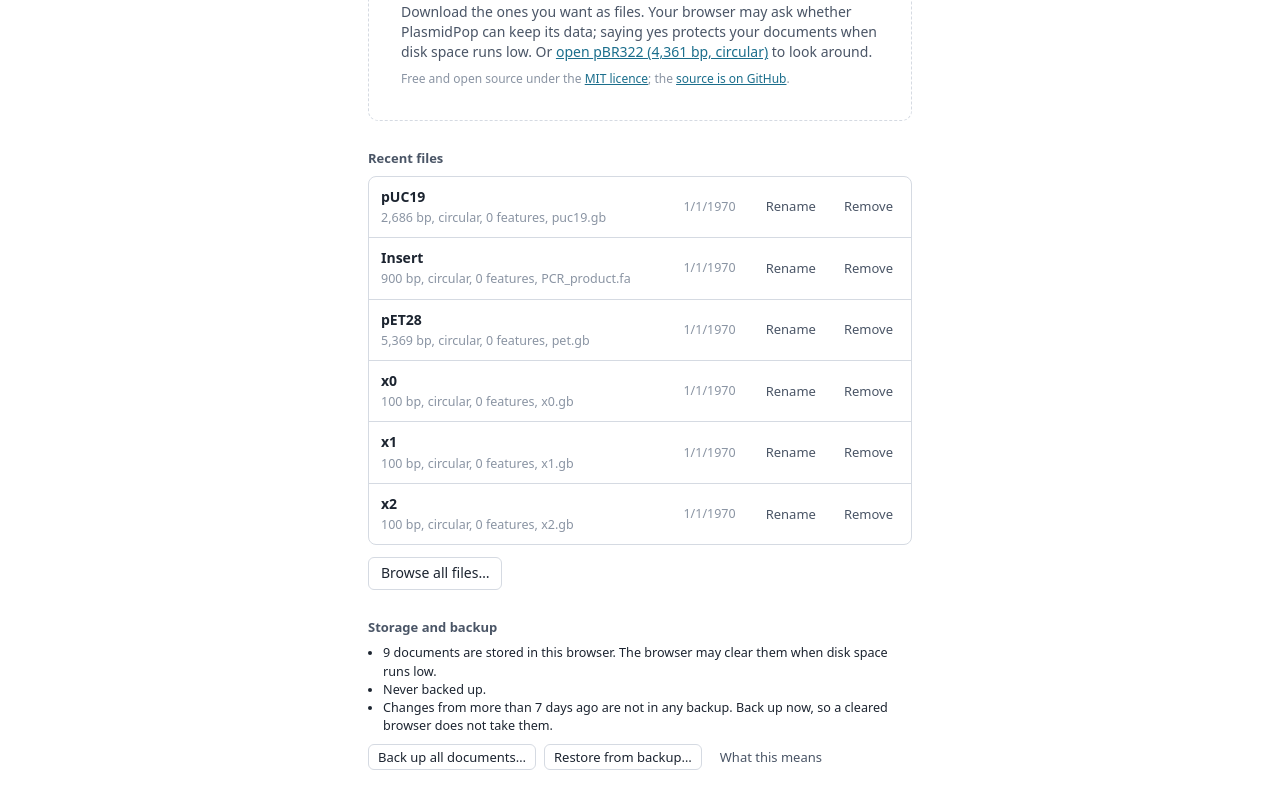
Test: the Browse all files panel (item 111) › closes with Close and with Escape
(page scrolled)
Click the button "Browse all files…". click: (435,573)
box: top-left (368, 557), bottom-right (502, 590)
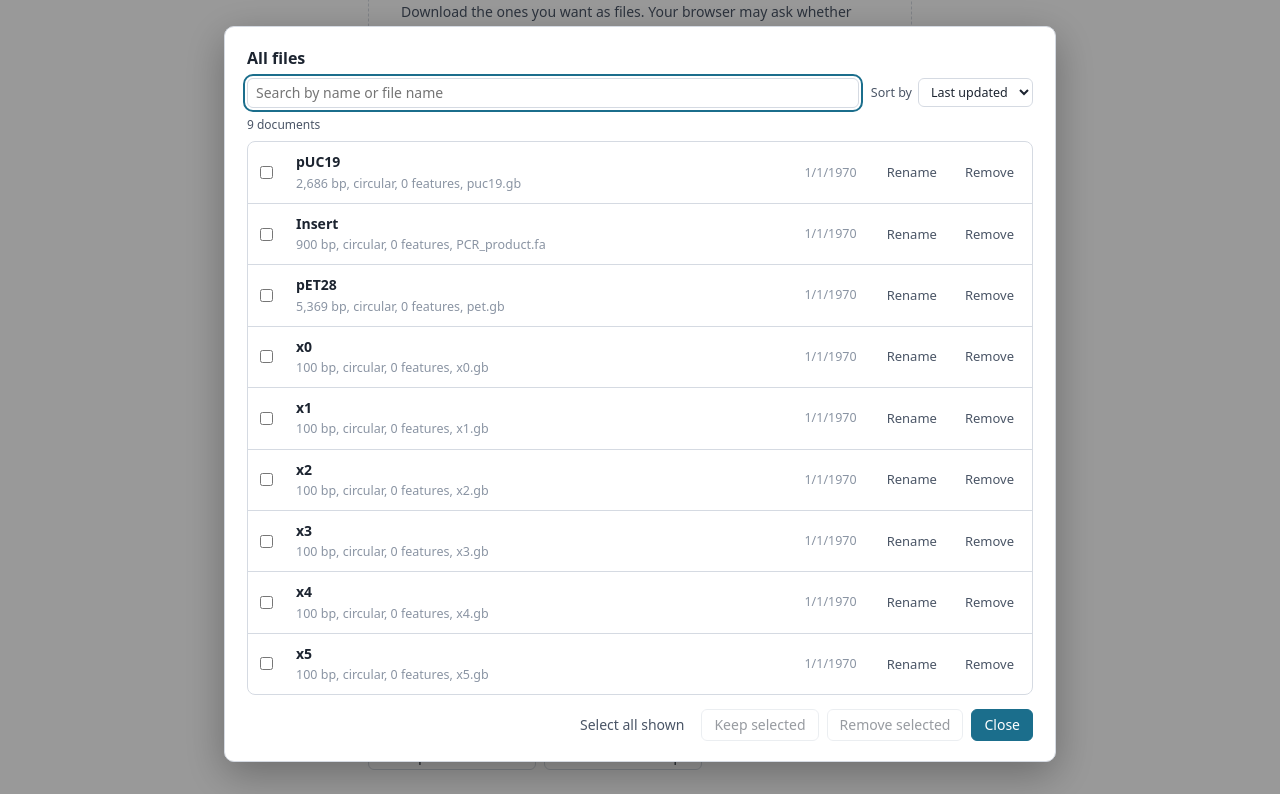
Click the button "Close". click: (1002,725)
box: top-left (972, 709), bottom-right (1033, 742)
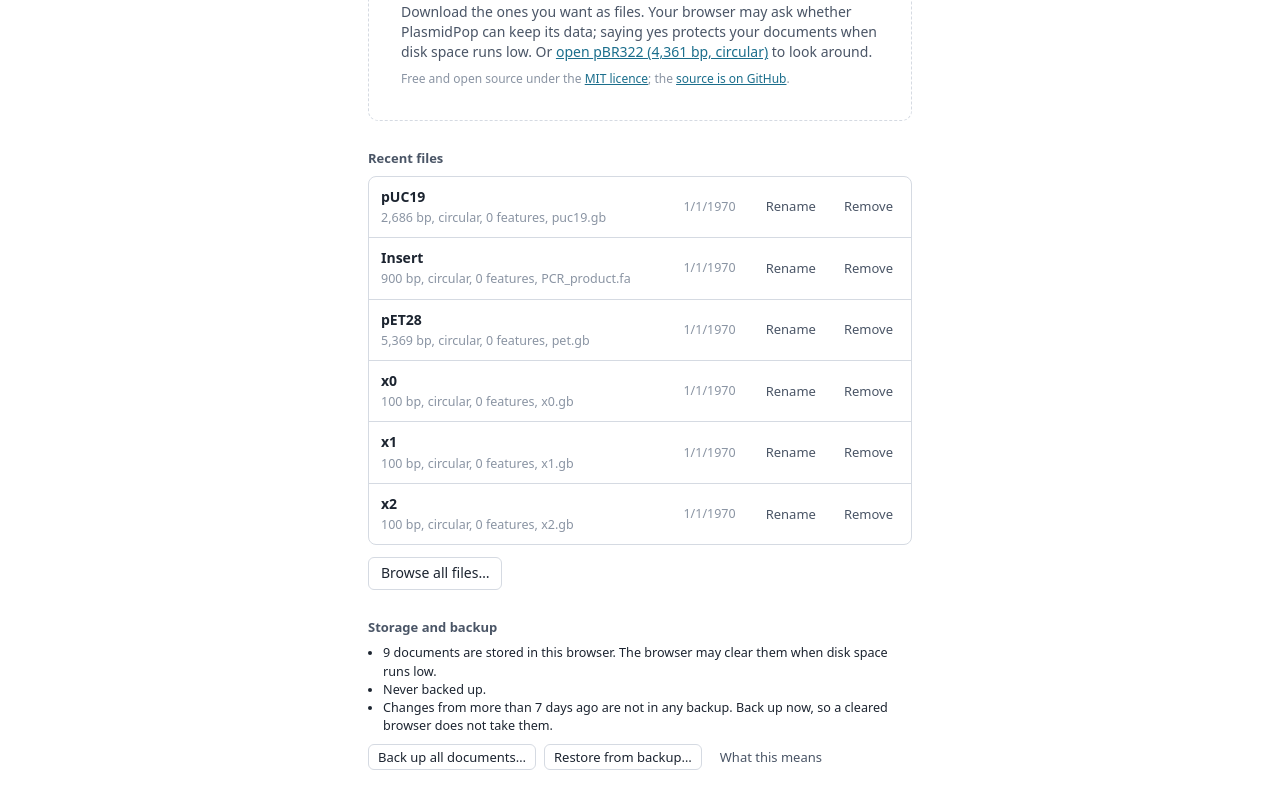
Now the dialog is gone
Click the button "Browse all files…". click: (435,573)
box: top-left (368, 557), bottom-right (502, 590)
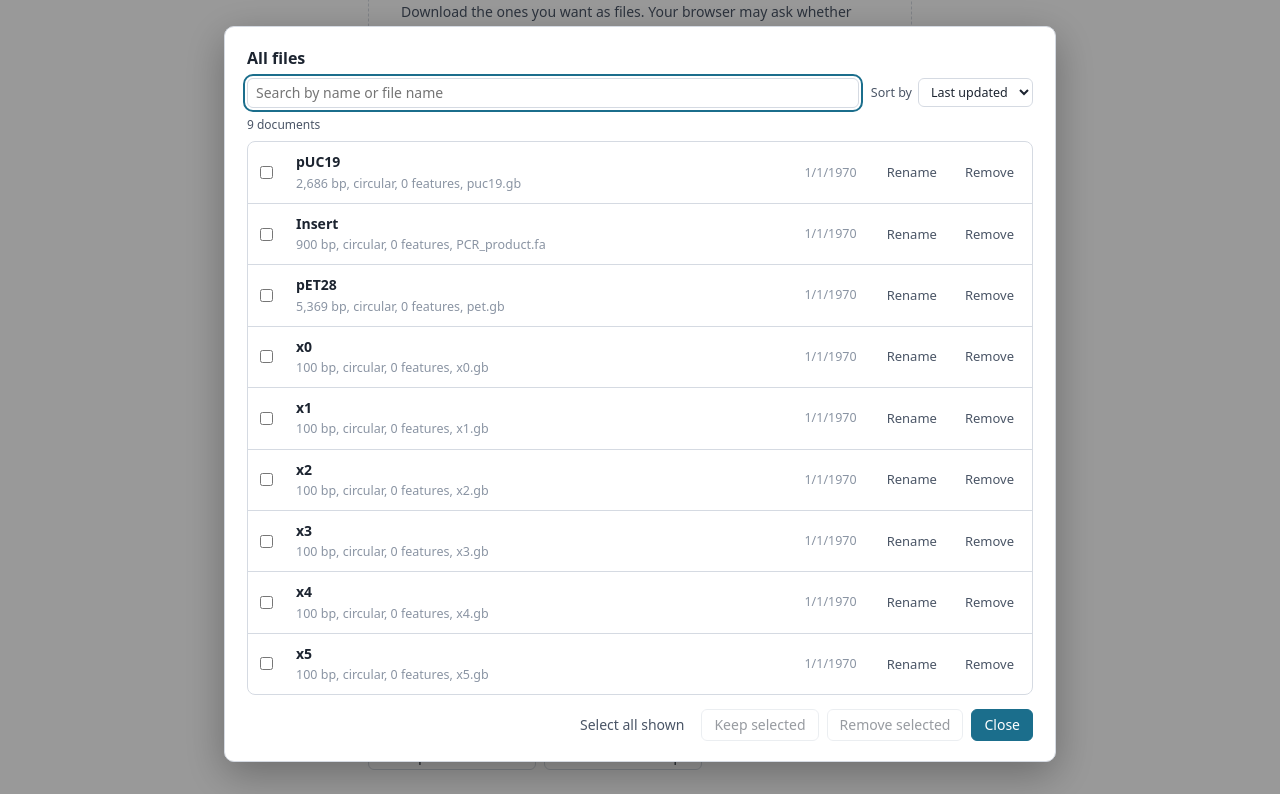
Press Escape
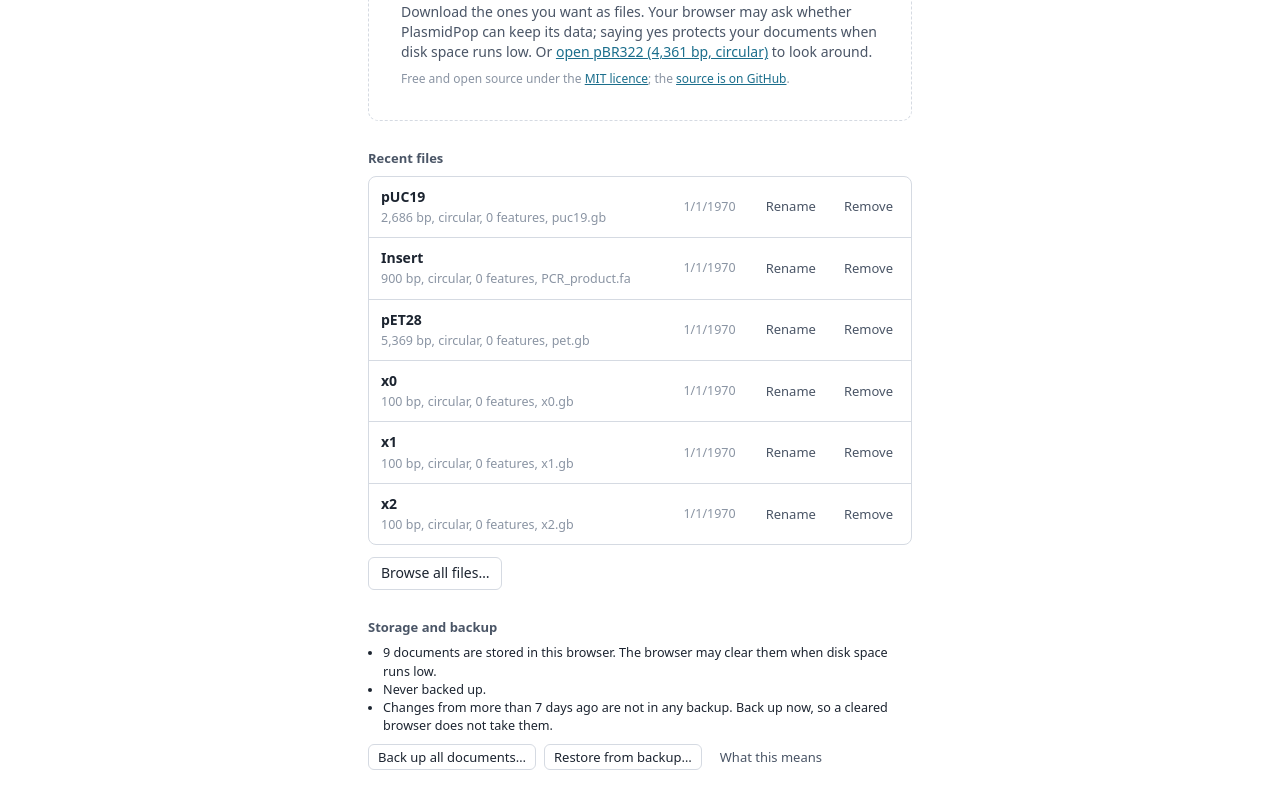
Now the dialog is gone
